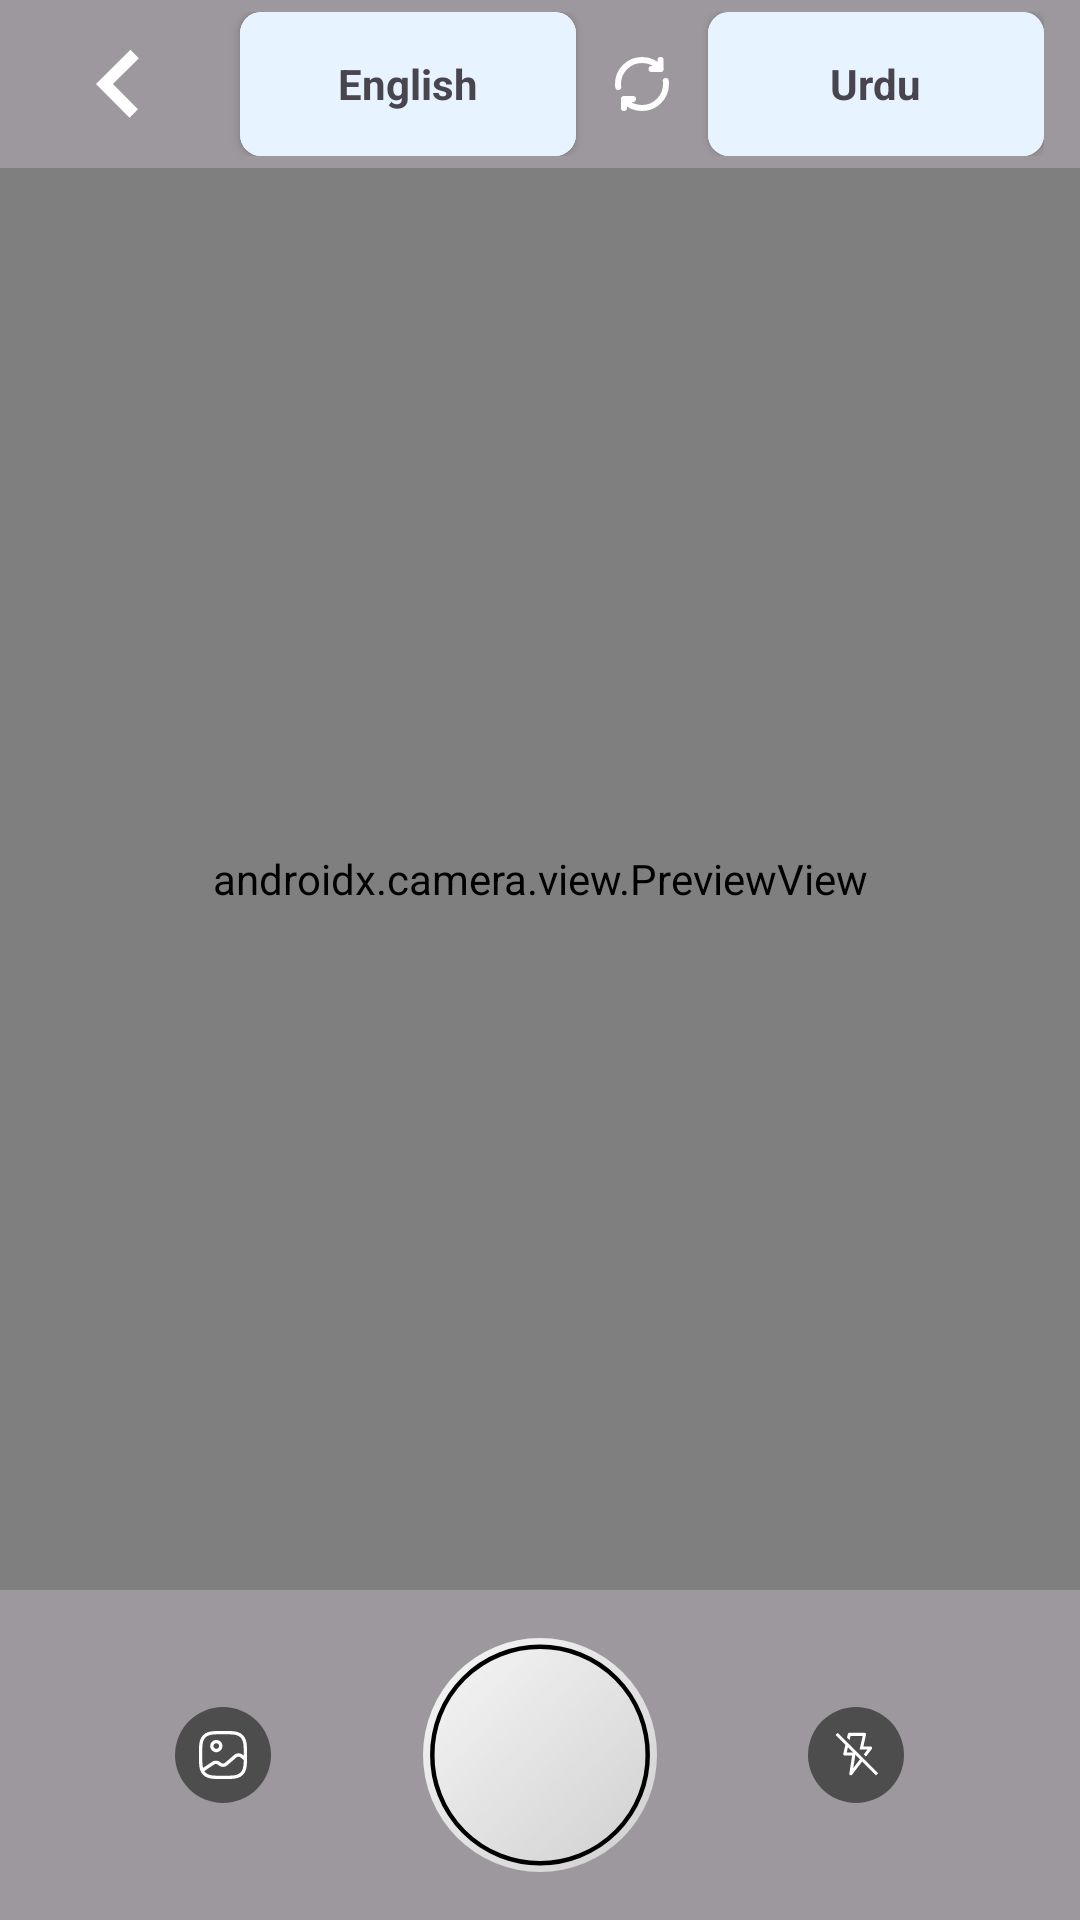

Named icons in this screenshot (1080 × 1920) and their bounding boxes, (x1, y1, x2, y2):
Back Icon: (96, 50, 139, 118)
Capture: (423, 1638, 657, 1872)
Flash Toggle: (808, 1707, 904, 1803)
Gallery: (175, 1707, 271, 1803)
Rotate Icon: (615, 57, 669, 111)
